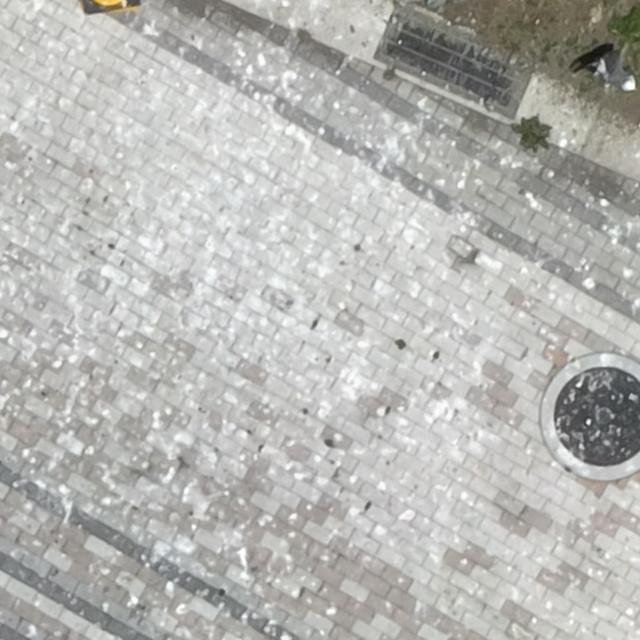umineko: (589, 49, 636, 94)
